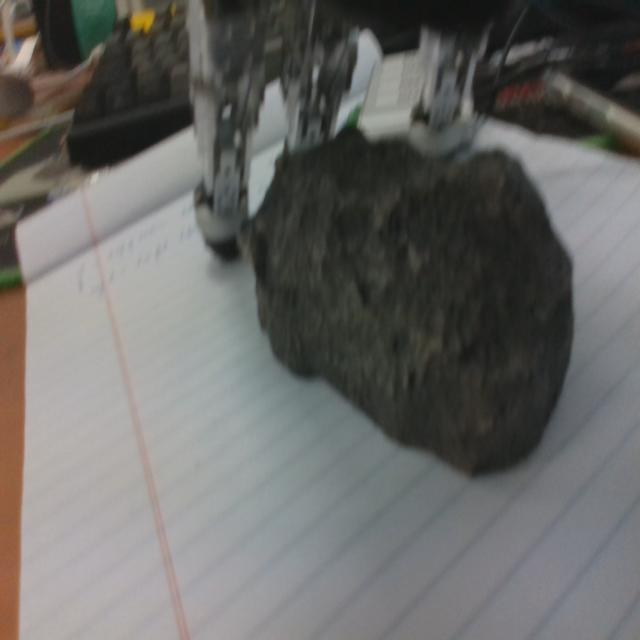stone: (233, 115, 574, 482)
